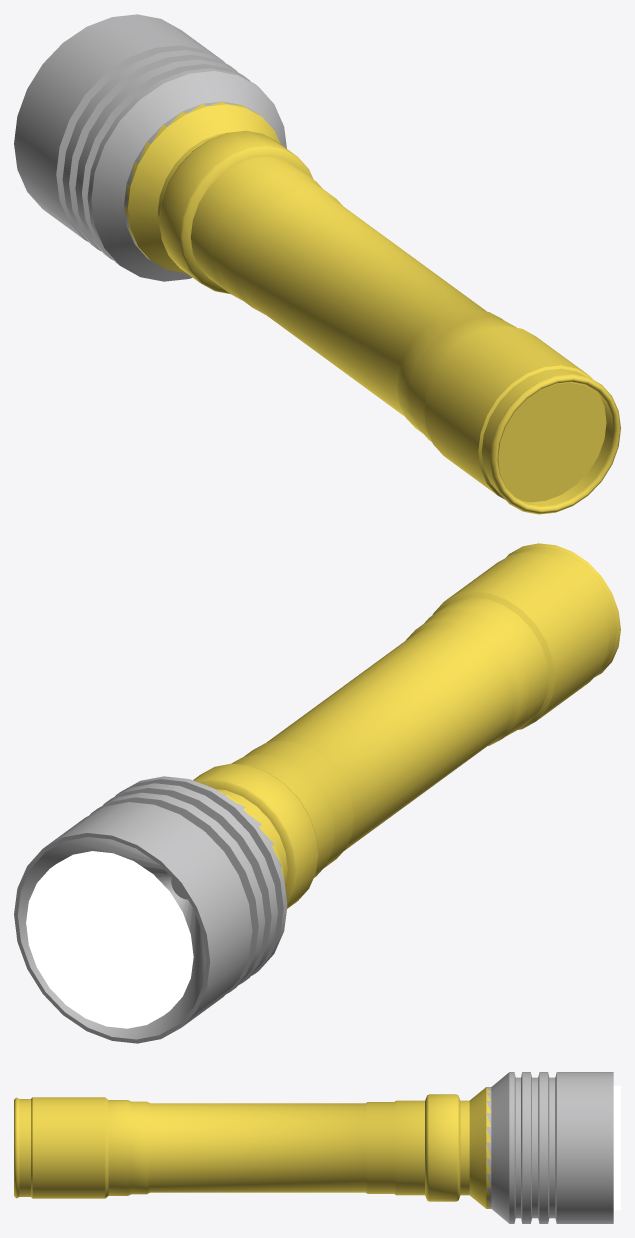
The model's file is flashlight.glb.
The picture shows the model from 3 angles, top to bottom: view 1: azimuth 30°, elevation 25°; view 2: azimuth 150°, elevation 25°; view 3: azimuth 270°, elevation 25°; orthographic projection. The views are drawn at different scales.
Parts seen in each view (by area): view 1: SM_Flashlight_01; view 2: SM_Flashlight_01, lens; view 3: SM_Flashlight_01, lens.
Part boxes in pixels (x1,y1,x2,y2): SM_Flashlight_01: (14, 14, 620, 514); SM_Flashlight_01: (14, 543, 620, 1043); lens: (26, 851, 193, 1028); SM_Flashlight_01: (14, 1072, 613, 1223); lens: (613, 1085, 620, 1210).
Size of the model in its own units: 0.0509 by 0.0509 by 0.2025.
